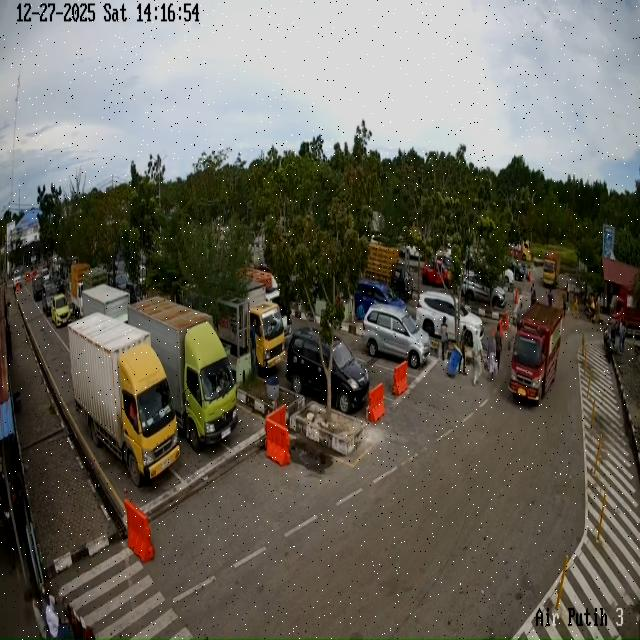Golongan IVA: (286, 328, 370, 413), (362, 304, 430, 368), (416, 290, 484, 346), (354, 279, 406, 314), (463, 272, 506, 308), (51, 294, 71, 328), (42, 281, 59, 315), (32, 274, 45, 301), (12, 269, 22, 290), (41, 267, 50, 282)
Golongan VB: (68, 313, 180, 486), (128, 297, 238, 451), (509, 303, 563, 403), (543, 252, 560, 288)
